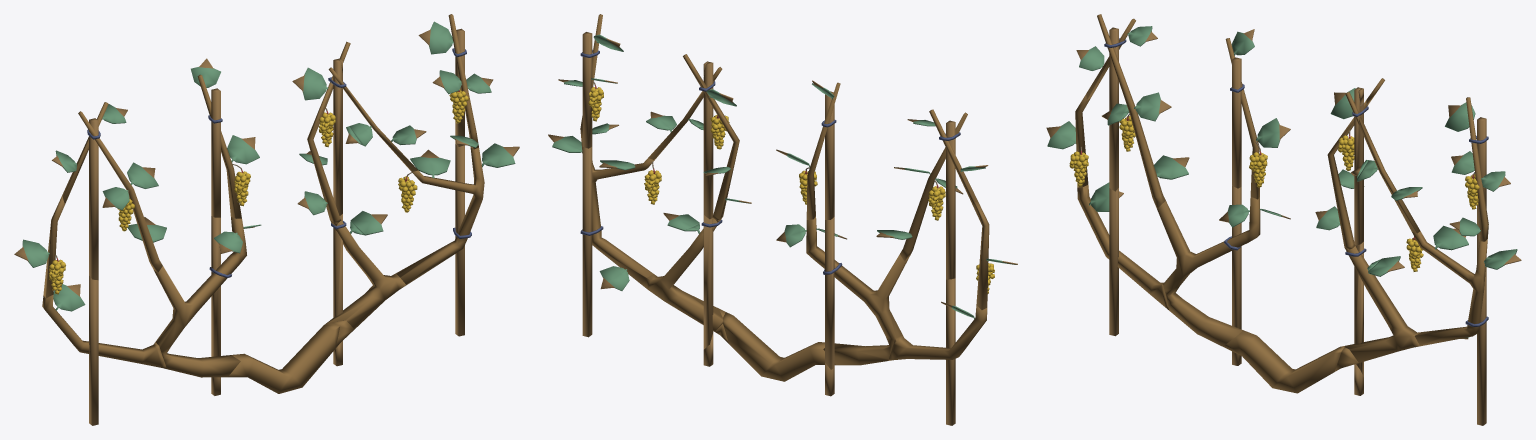
The model's file is GrapePlant_01 Fracture.fbx.
3 renders of one model, left to right at view 1: azimuth 30°, elevation 25°; view 2: azimuth 150°, elevation 25°; view 3: azimuth 330°, elevation 25°, orthographic.
Visible parts, largest first — view 1: GrapePlant_01_cell.005, GrapePlant_01_cell.003, GrapePlant_01_cell.002, GrapePlant_01_cell.001, GrapePlant_01_cell.008, GrapePlant_01_cell.004, GrapePlant_01_cell.009, GrapePlant_01_cell, GrapePlant_01_cell.007; view 2: GrapePlant_01_cell.003, GrapePlant_01_cell.005, GrapePlant_01_cell.001, GrapePlant_01_cell.002, GrapePlant_01_cell.008, GrapePlant_01_cell.009, GrapePlant_01_cell, GrapePlant_01_cell.004, GrapePlant_01_cell.007; view 3: GrapePlant_01_cell.005, GrapePlant_01_cell.002, GrapePlant_01_cell.001, GrapePlant_01_cell.003, GrapePlant_01_cell.008, GrapePlant_01_cell.004, GrapePlant_01_cell.009, GrapePlant_01_cell, GrapePlant_01_cell.007, GrapePlant_01_cell.006.
Boxes of the visible parts, bbox=[...] form: GrapePlant_01_cell.005: bbox=[191, 58, 361, 222]; GrapePlant_01_cell.003: bbox=[350, 143, 519, 336]; GrapePlant_01_cell.002: bbox=[52, 102, 166, 280]; GrapePlant_01_cell.001: bbox=[154, 216, 338, 377]; GrapePlant_01_cell.008: bbox=[338, 14, 493, 171]; GrapePlant_01_cell.004: bbox=[42, 276, 166, 425]; GrapePlant_01_cell.009: bbox=[327, 214, 406, 329]; GrapePlant_01_cell: bbox=[211, 322, 340, 395]; GrapePlant_01_cell.007: bbox=[14, 195, 65, 298]; GrapePlant_01_cell.003: bbox=[548, 134, 699, 337]; GrapePlant_01_cell.005: bbox=[699, 62, 840, 220]; GrapePlant_01_cell.001: bbox=[716, 216, 908, 369]; GrapePlant_01_cell.002: bbox=[876, 109, 988, 279]; GrapePlant_01_cell.008: bbox=[558, 14, 708, 159]; GrapePlant_01_cell.009: bbox=[641, 215, 722, 349]; GrapePlant_01_cell: bbox=[723, 312, 835, 396]; GrapePlant_01_cell.004: bbox=[888, 278, 987, 425]; GrapePlant_01_cell.007: bbox=[973, 202, 1017, 309]; GrapePlant_01_cell.005: bbox=[1225, 29, 1368, 249]; GrapePlant_01_cell.002: bbox=[1076, 14, 1189, 208]; GrapePlant_01_cell.001: bbox=[1157, 185, 1348, 346]; GrapePlant_01_cell.003: bbox=[1368, 225, 1521, 425]; GrapePlant_01_cell.008: bbox=[1357, 78, 1510, 241]; GrapePlant_01_cell.004: bbox=[1077, 182, 1168, 336]; GrapePlant_01_cell.009: bbox=[1344, 241, 1420, 376]; GrapePlant_01_cell: bbox=[1223, 330, 1344, 393]; GrapePlant_01_cell.007: bbox=[1046, 94, 1090, 187]; GrapePlant_01_cell.006: bbox=[1334, 347, 1363, 395].
Size of the model in its own units: 360 by 230 by 46.55.
